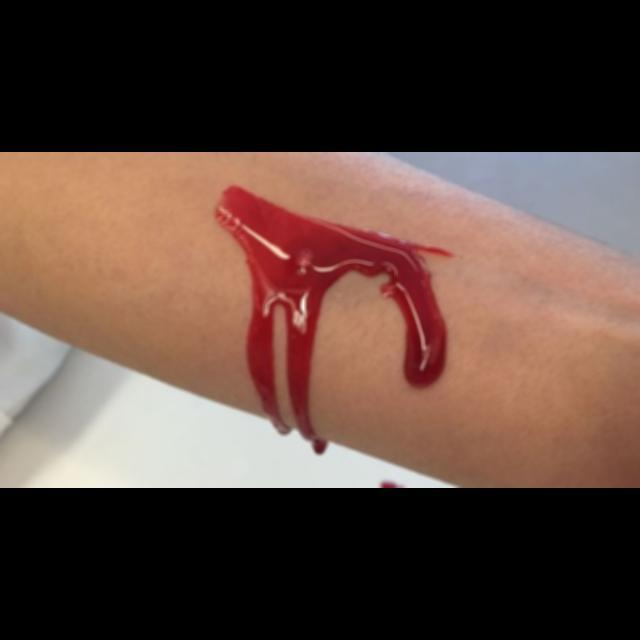blood: (215, 185, 454, 455)
